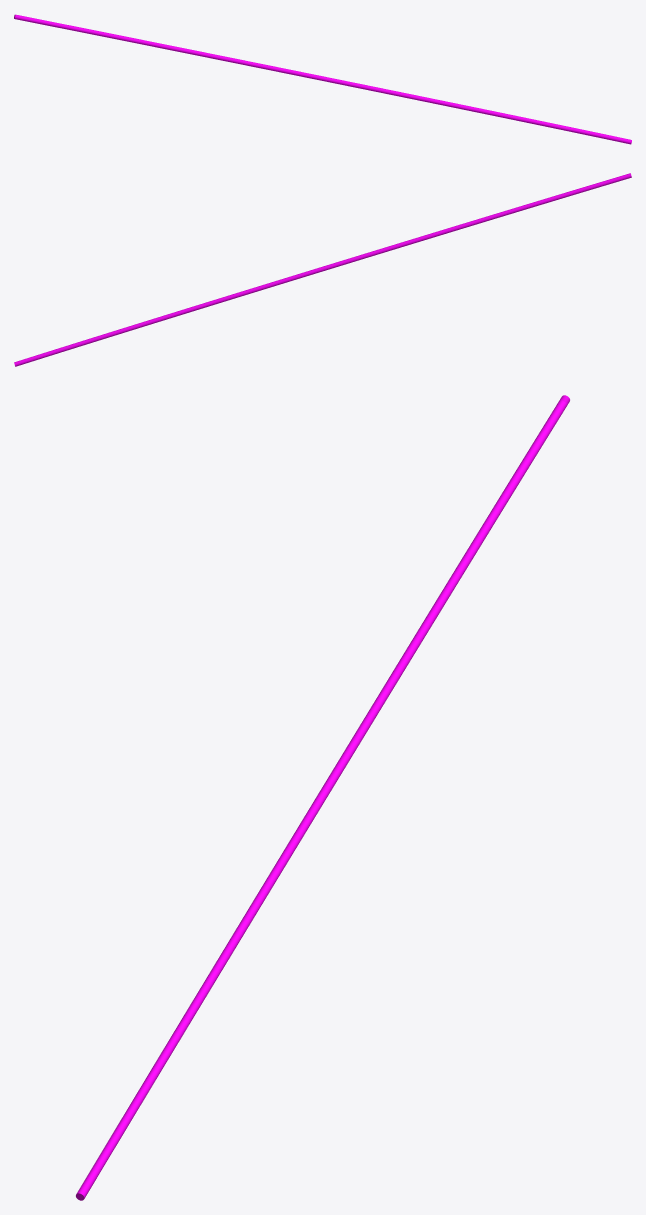
The model's file is Event_421278790_electron_0.fbx.
3 views of the same model, one above another, from view 1: azimuth 30°, elevation 25°; view 2: azimuth 210°, elevation 25°; view 3: azimuth 270°, elevation 25° (orthographic). The views are drawn at different scales.
Visible parts, largest first — view 1: Model; view 2: Model; view 3: Model.
Part boxes in pixels (x1,y1,x2,y2): Model: (14,14,631,144); Model: (14,173,631,366); Model: (76,395,569,1200).
Bounding box in the file's own units: 4.91 × 1.53 × 2.12.
